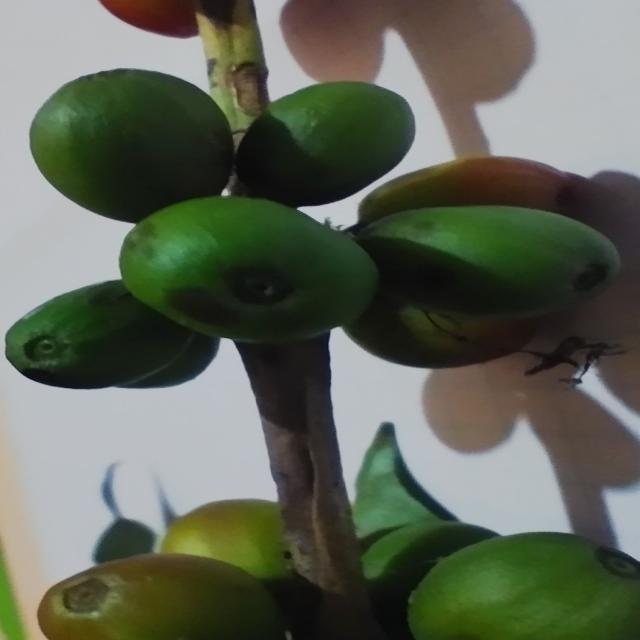Sano: (29, 68, 247, 224)
